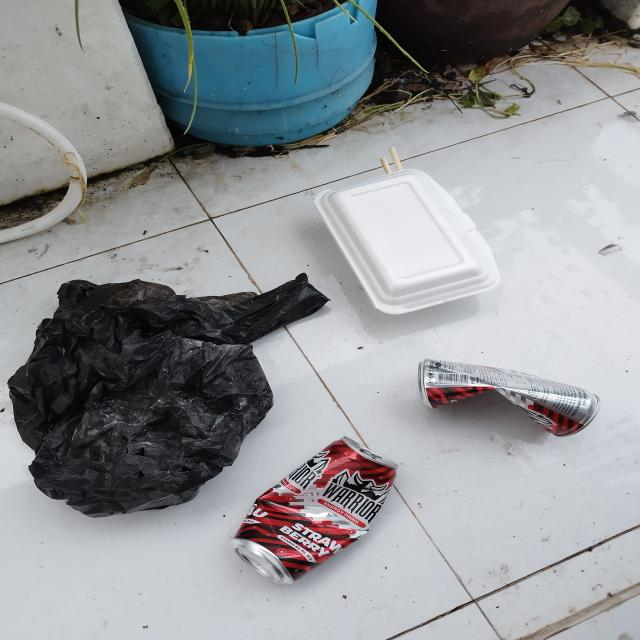bag: (9, 271, 332, 519)
can: (232, 432, 402, 586), (419, 358, 602, 437)
foam box: (312, 168, 504, 314)
